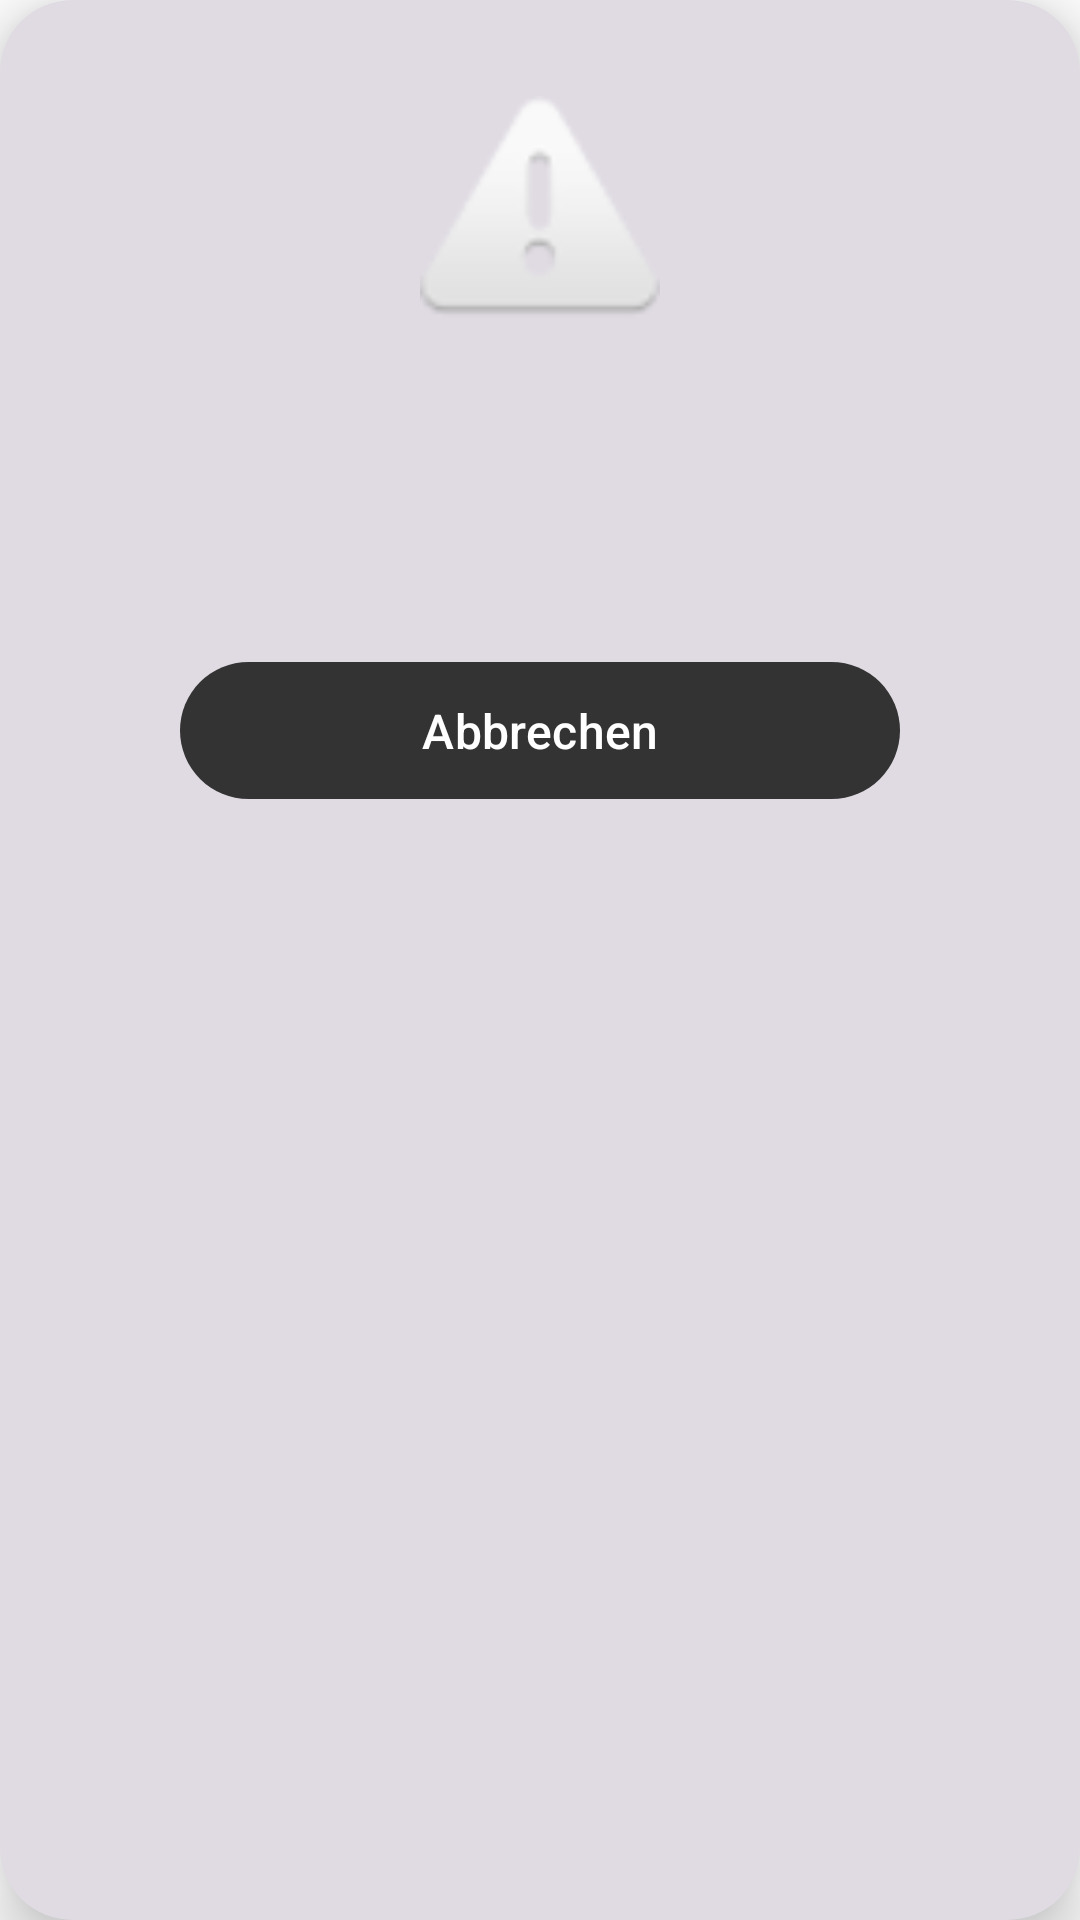

Locate icon controls on the screen. Image size 1080px×1920px, boxes as (x1, y1, x2, y2).
Status: (420, 103, 654, 312)
